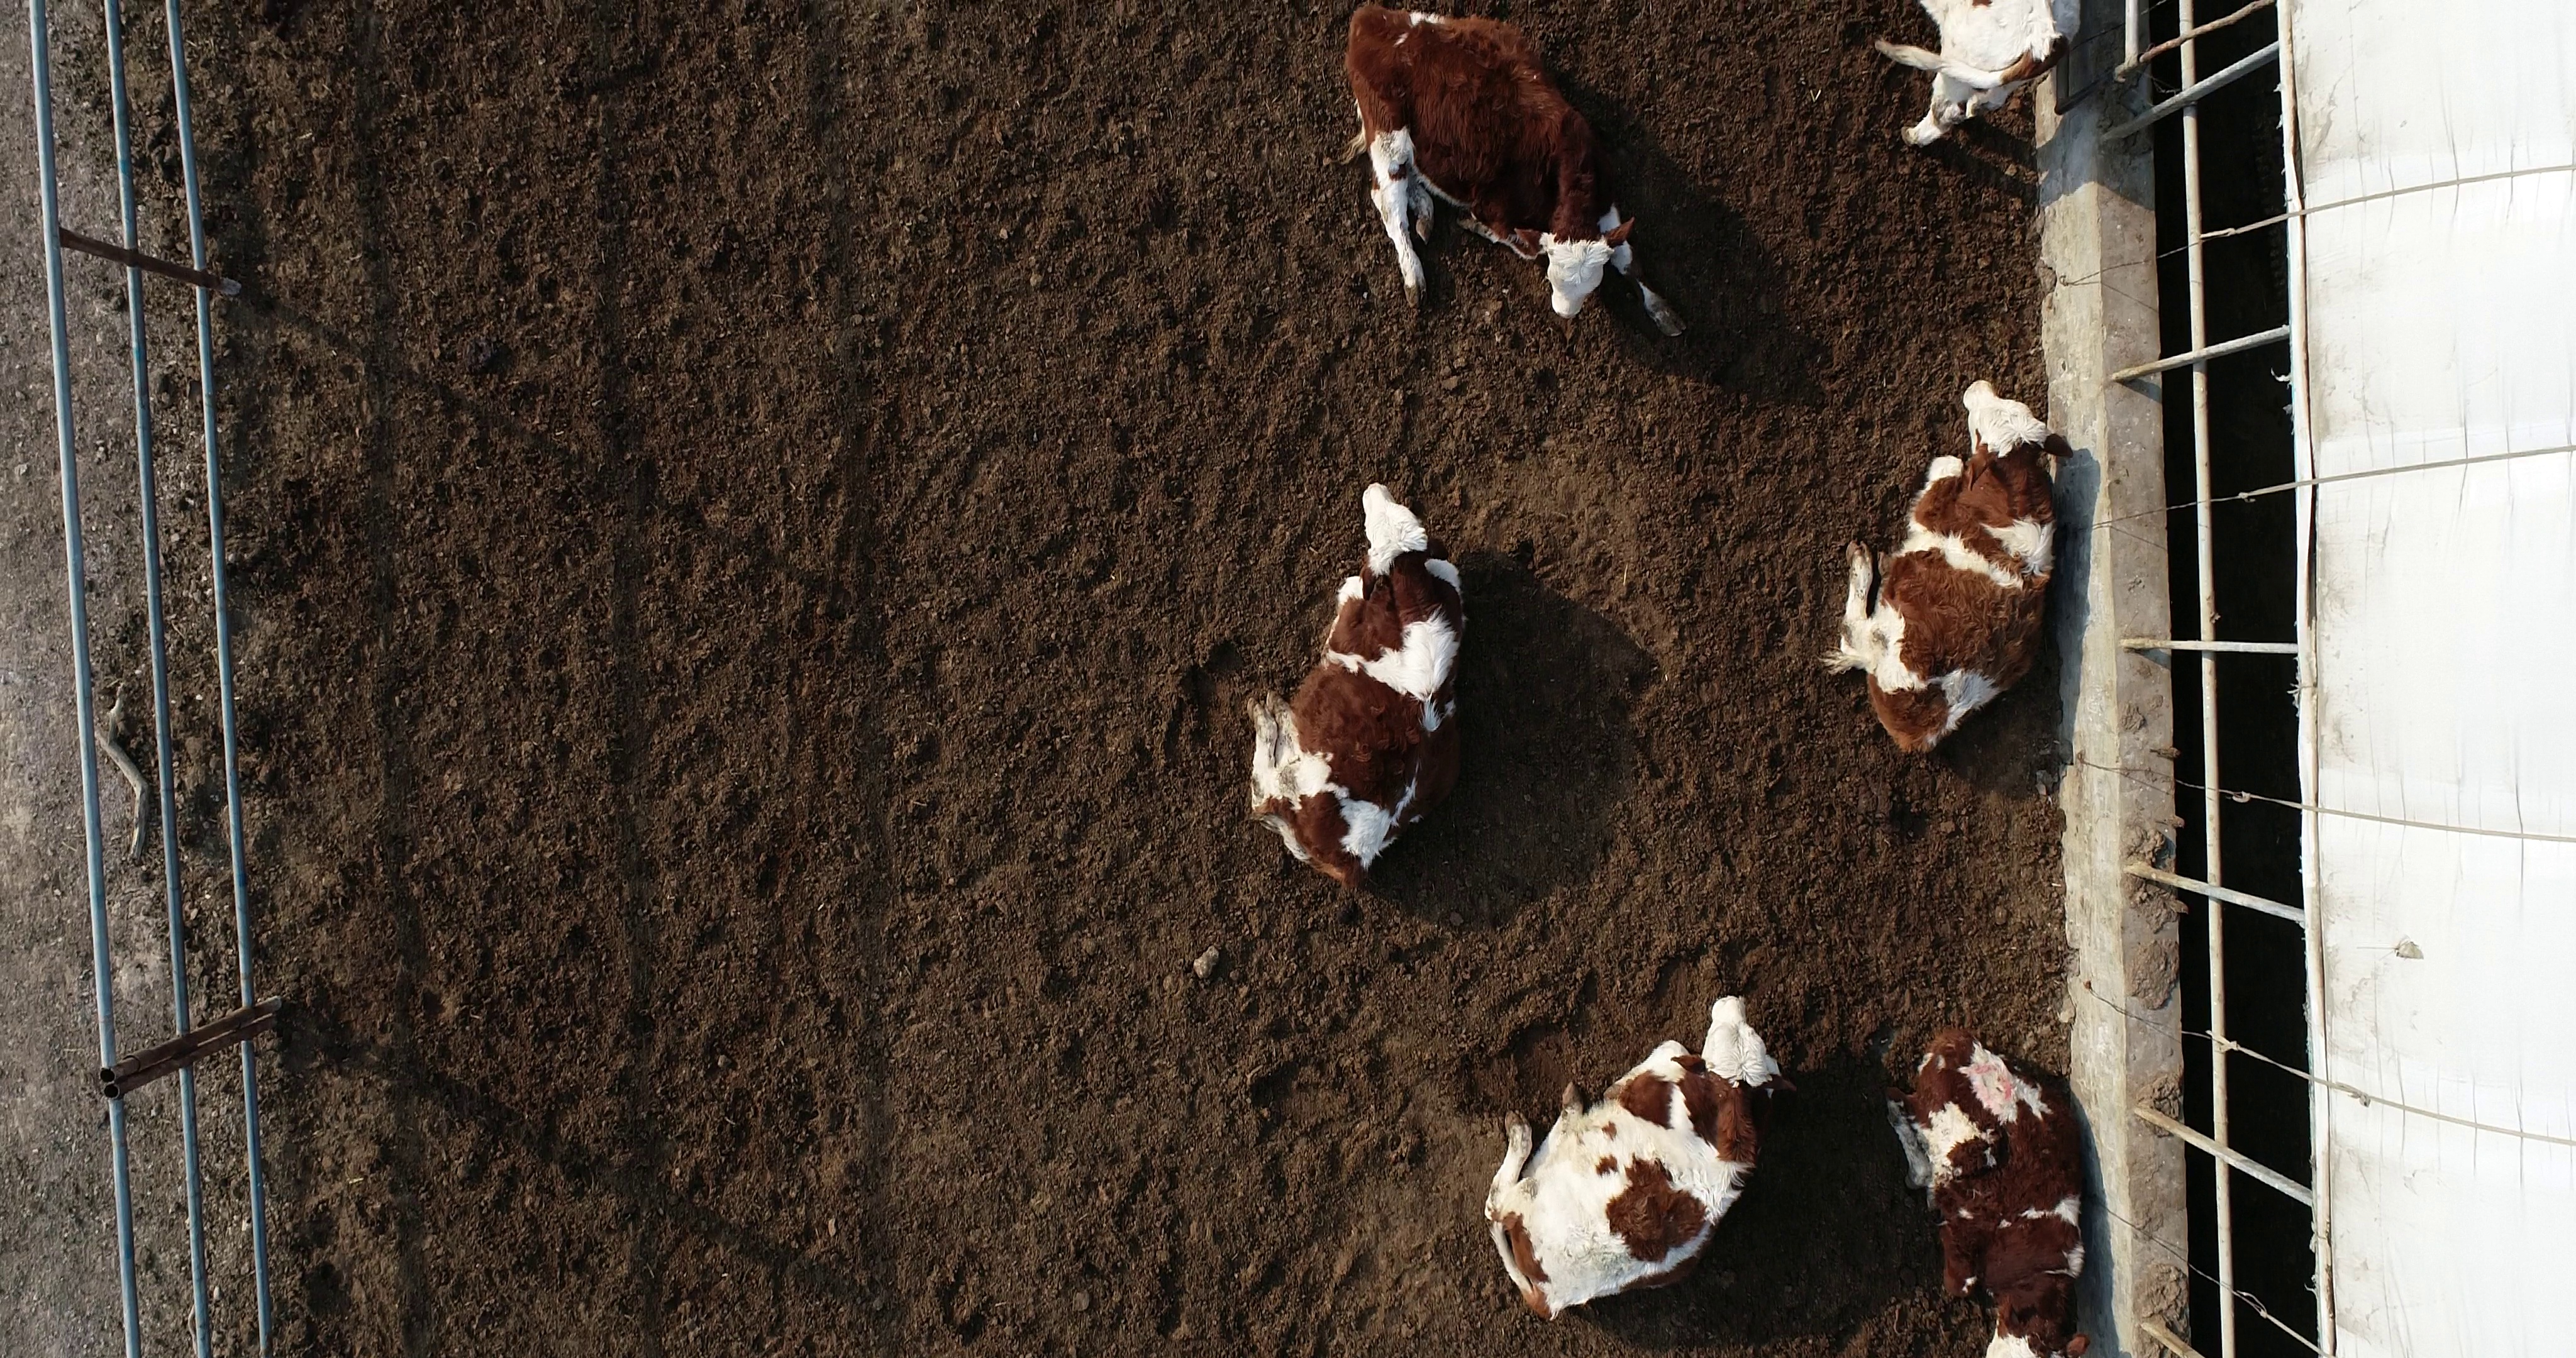cattle: (1336, 0, 1692, 341), (1477, 988, 1791, 1332), (1808, 377, 2080, 755), (1239, 479, 1474, 889)
